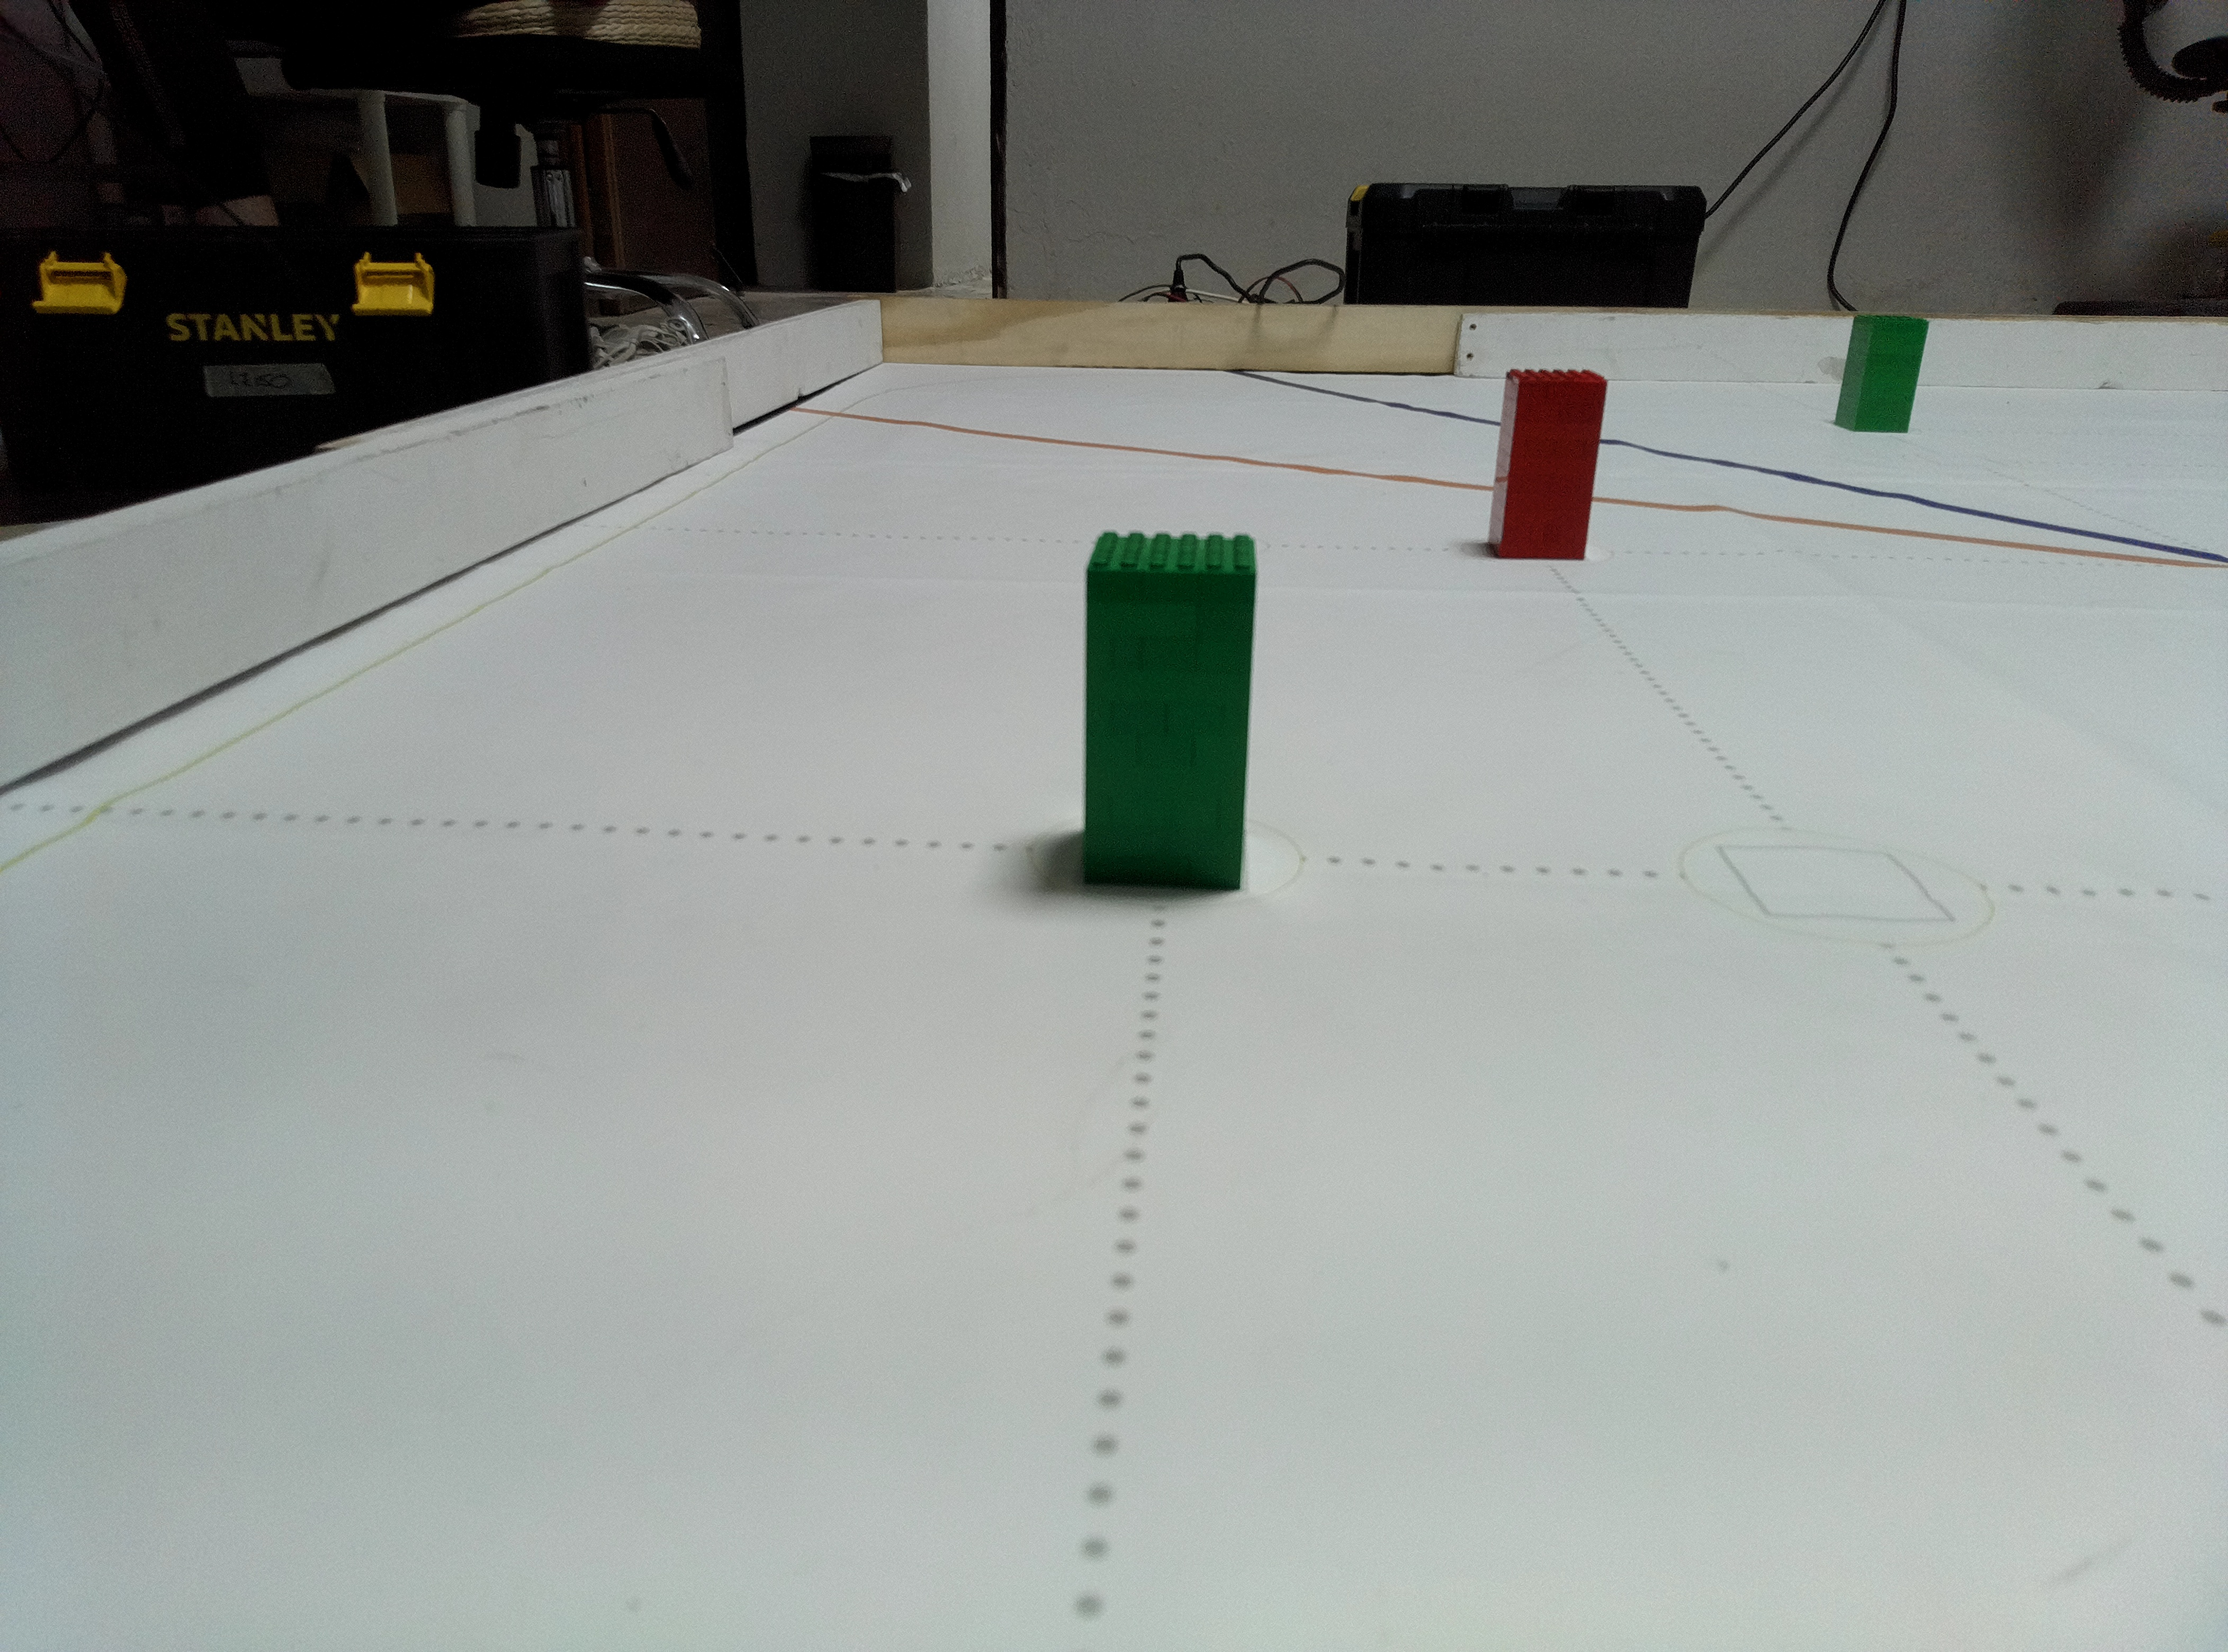greenbox: (1079, 528, 1263, 894), (1831, 314, 1931, 432)
redbox: (1485, 370, 1612, 562)
